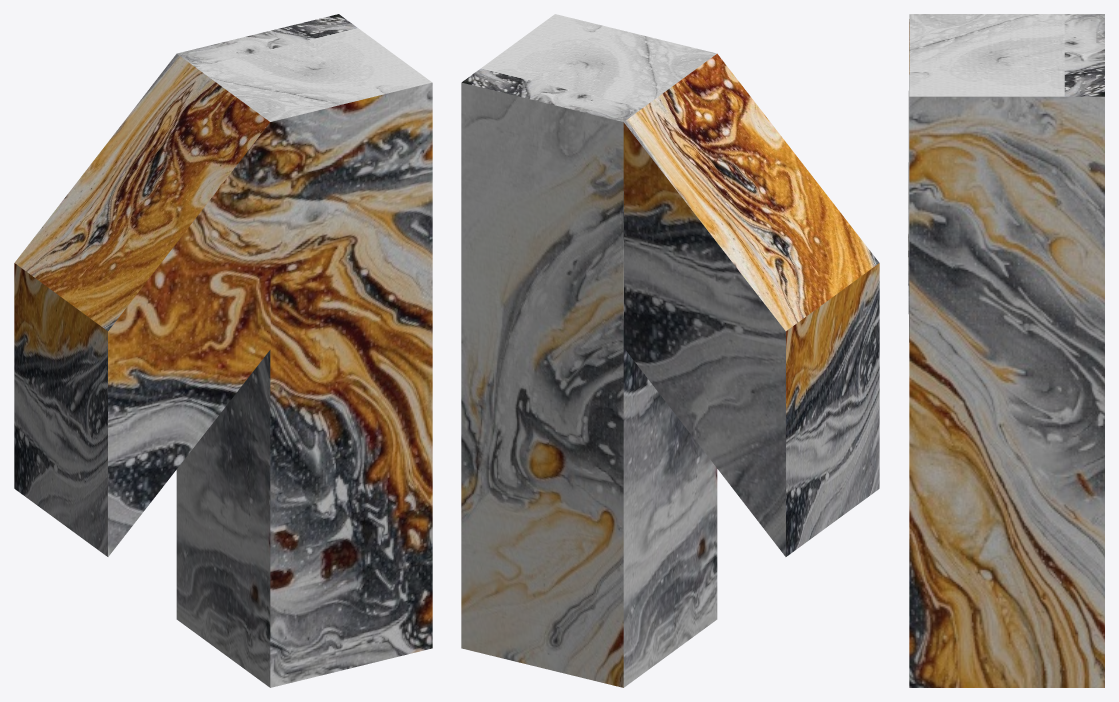
Rendered from mModelR.gltf.
The picture shows the model from 3 angles, left to right: view 1: azimuth 30°, elevation 25°; view 2: azimuth 150°, elevation 25°; view 3: azimuth 270°, elevation 25°; orthographic projection. The views are drawn at different scales.
Parts seen in each view (by area): view 1: Box004; view 2: Box004; view 3: Box004.
Part boxes in pixels (box(x1,y1,x2,y2)): Box004: box(14, 14, 432, 687); Box004: box(461, 14, 879, 687); Box004: box(908, 14, 1104, 687).
Size of the model in its own units: 8.63 by 14.38 by 4.34.
Materials: 1 (1 with a texture image).
